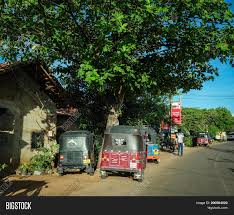tuk tuk: (100, 126, 146, 182), (55, 131, 98, 176), (148, 127, 161, 164), (192, 131, 209, 146)
